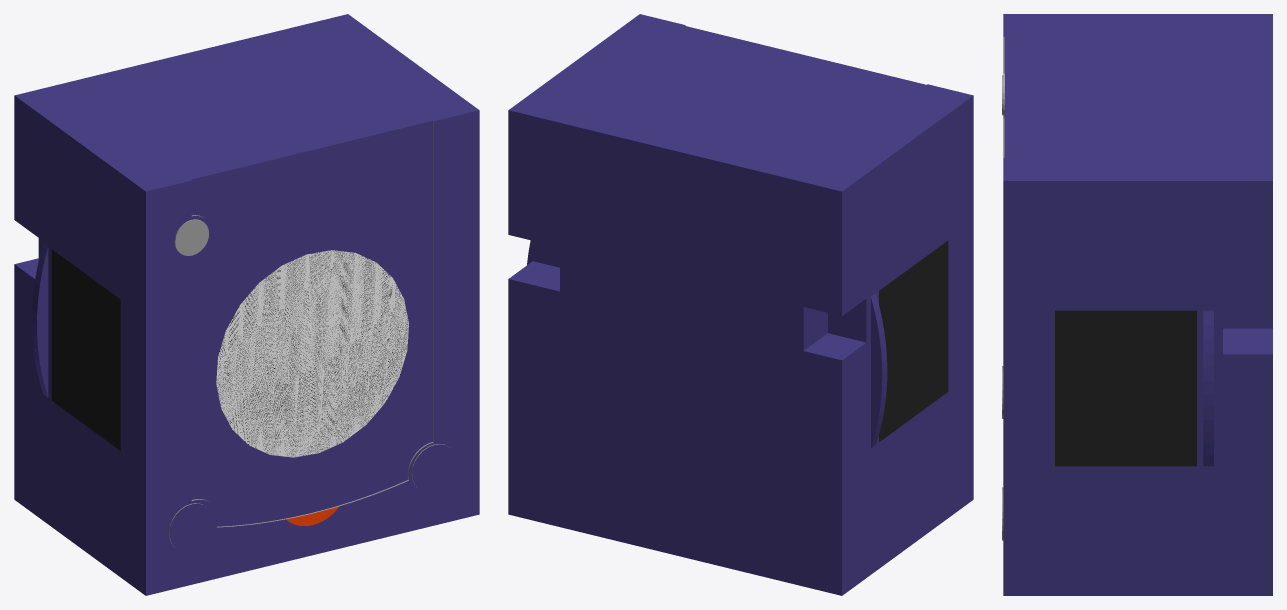
The picture shows the model from 3 angles, left to right: view 1: azimuth 30°, elevation 25°; view 2: azimuth 150°, elevation 25°; view 3: azimuth 270°, elevation 25°; orthographic projection. The views are drawn at different scales.
Parts seen in each view (by area): view 1: nintendo gamecube; view 2: nintendo gamecube; view 3: nintendo gamecube.
Part boxes in pixels (bbox=[...]): nintendo gamecube: bbox=[14, 14, 479, 595]; nintendo gamecube: bbox=[508, 14, 973, 595]; nintendo gamecube: bbox=[1002, 14, 1272, 595].
Size of the model in its own units: 173 by 193 by 111.
